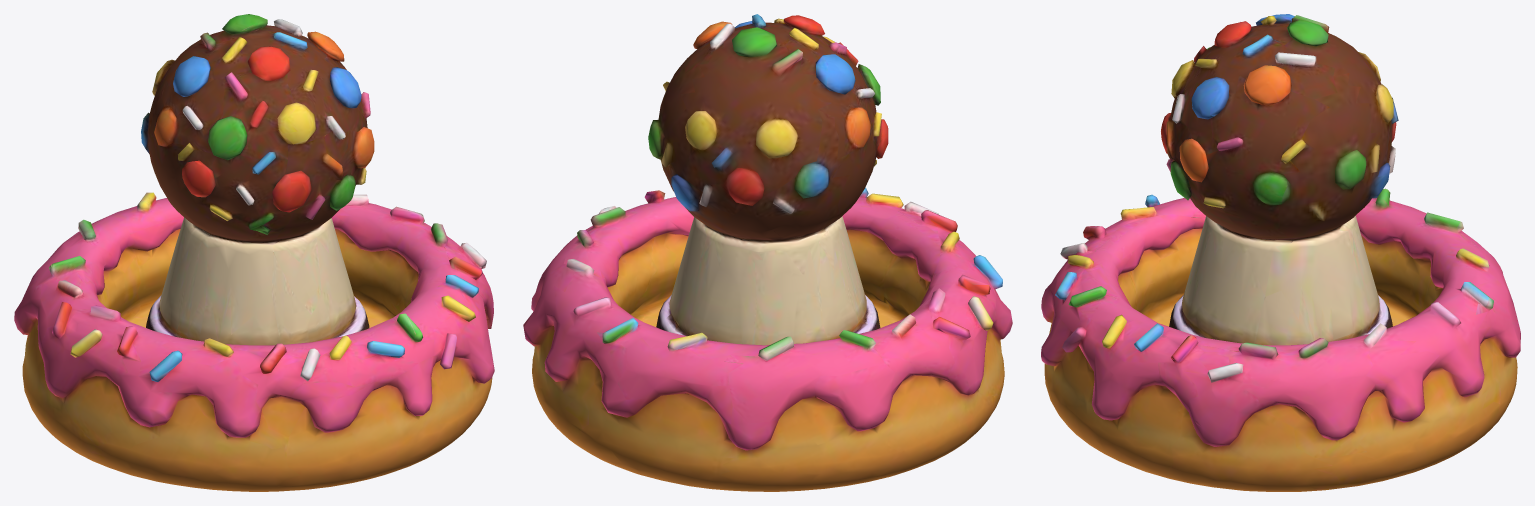
Rendered from mallet-donut.glb.
The picture shows the model from 3 angles, left to right: view 1: azimuth 30°, elevation 25°; view 2: azimuth 150°, elevation 25°; view 3: azimuth 270°, elevation 25°; orthographic projection.
Visible parts, largest first — view 1: tripo_node_430fbcb8-eb19-42ac-8319-5e75c91f4539; view 2: tripo_node_430fbcb8-eb19-42ac-8319-5e75c91f4539; view 3: tripo_node_430fbcb8-eb19-42ac-8319-5e75c91f4539.
Boxes of the visible parts, <box> form: tripo_node_430fbcb8-eb19-42ac-8319-5e75c91f4539: <box>14,14,494,491</box>; tripo_node_430fbcb8-eb19-42ac-8319-5e75c91f4539: <box>523,14,1012,491</box>; tripo_node_430fbcb8-eb19-42ac-8319-5e75c91f4539: <box>1041,14,1520,491</box>.
Size of the model in its own units: 1 by 0.8681 by 0.9953.
Materials: 1 (1 with a texture image).
